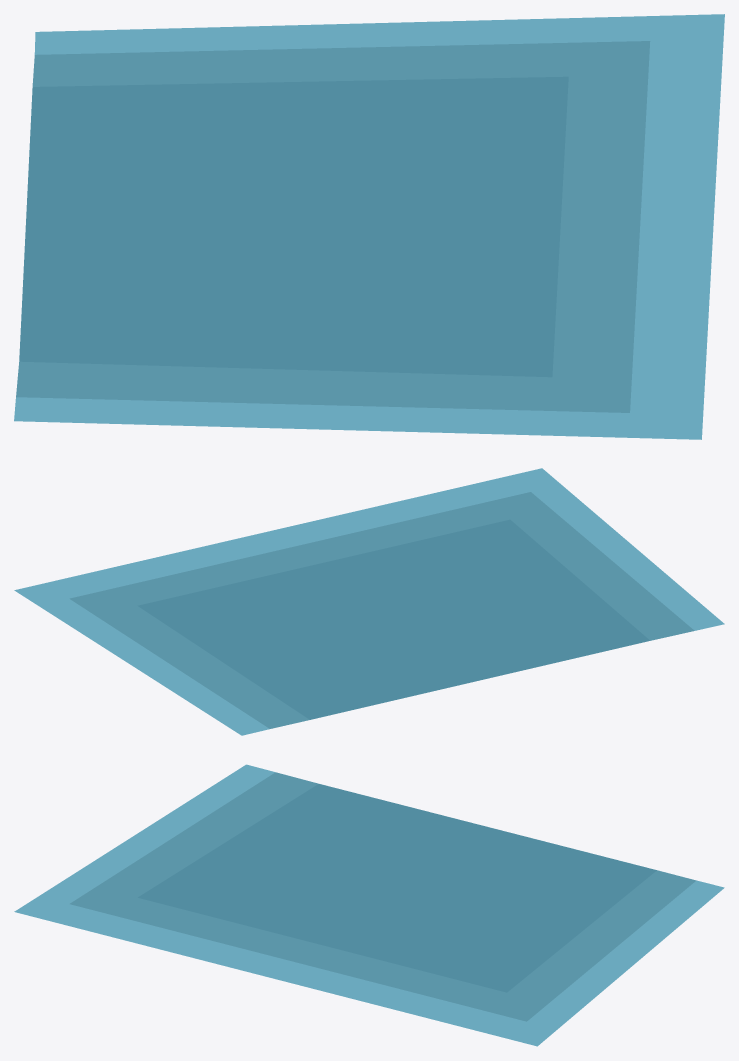
Rendered from kd_stage_1366d7_1_8.glb.
The picture shows the model from 3 angles, top to bottom: view 1: azimuth 30°, elevation 25°; view 2: azimuth 150°, elevation 25°; view 3: azimuth 270°, elevation 25°; orthographic projection. The views are drawn at different scales.
Visible parts, largest first — view 1: kd_stage_1366d7_1_8; view 2: kd_stage_1366d7_1_8; view 3: kd_stage_1366d7_1_8.
Part boxes in pixels (bbox=[...]): kd_stage_1366d7_1_8: bbox=[14, 14, 724, 439]; kd_stage_1366d7_1_8: bbox=[14, 468, 724, 735]; kd_stage_1366d7_1_8: bbox=[14, 764, 724, 1046].
Bounding box in the file's own units: 6.11 × 0 × 6.51.
Materials: 1 (1 with a texture image).
